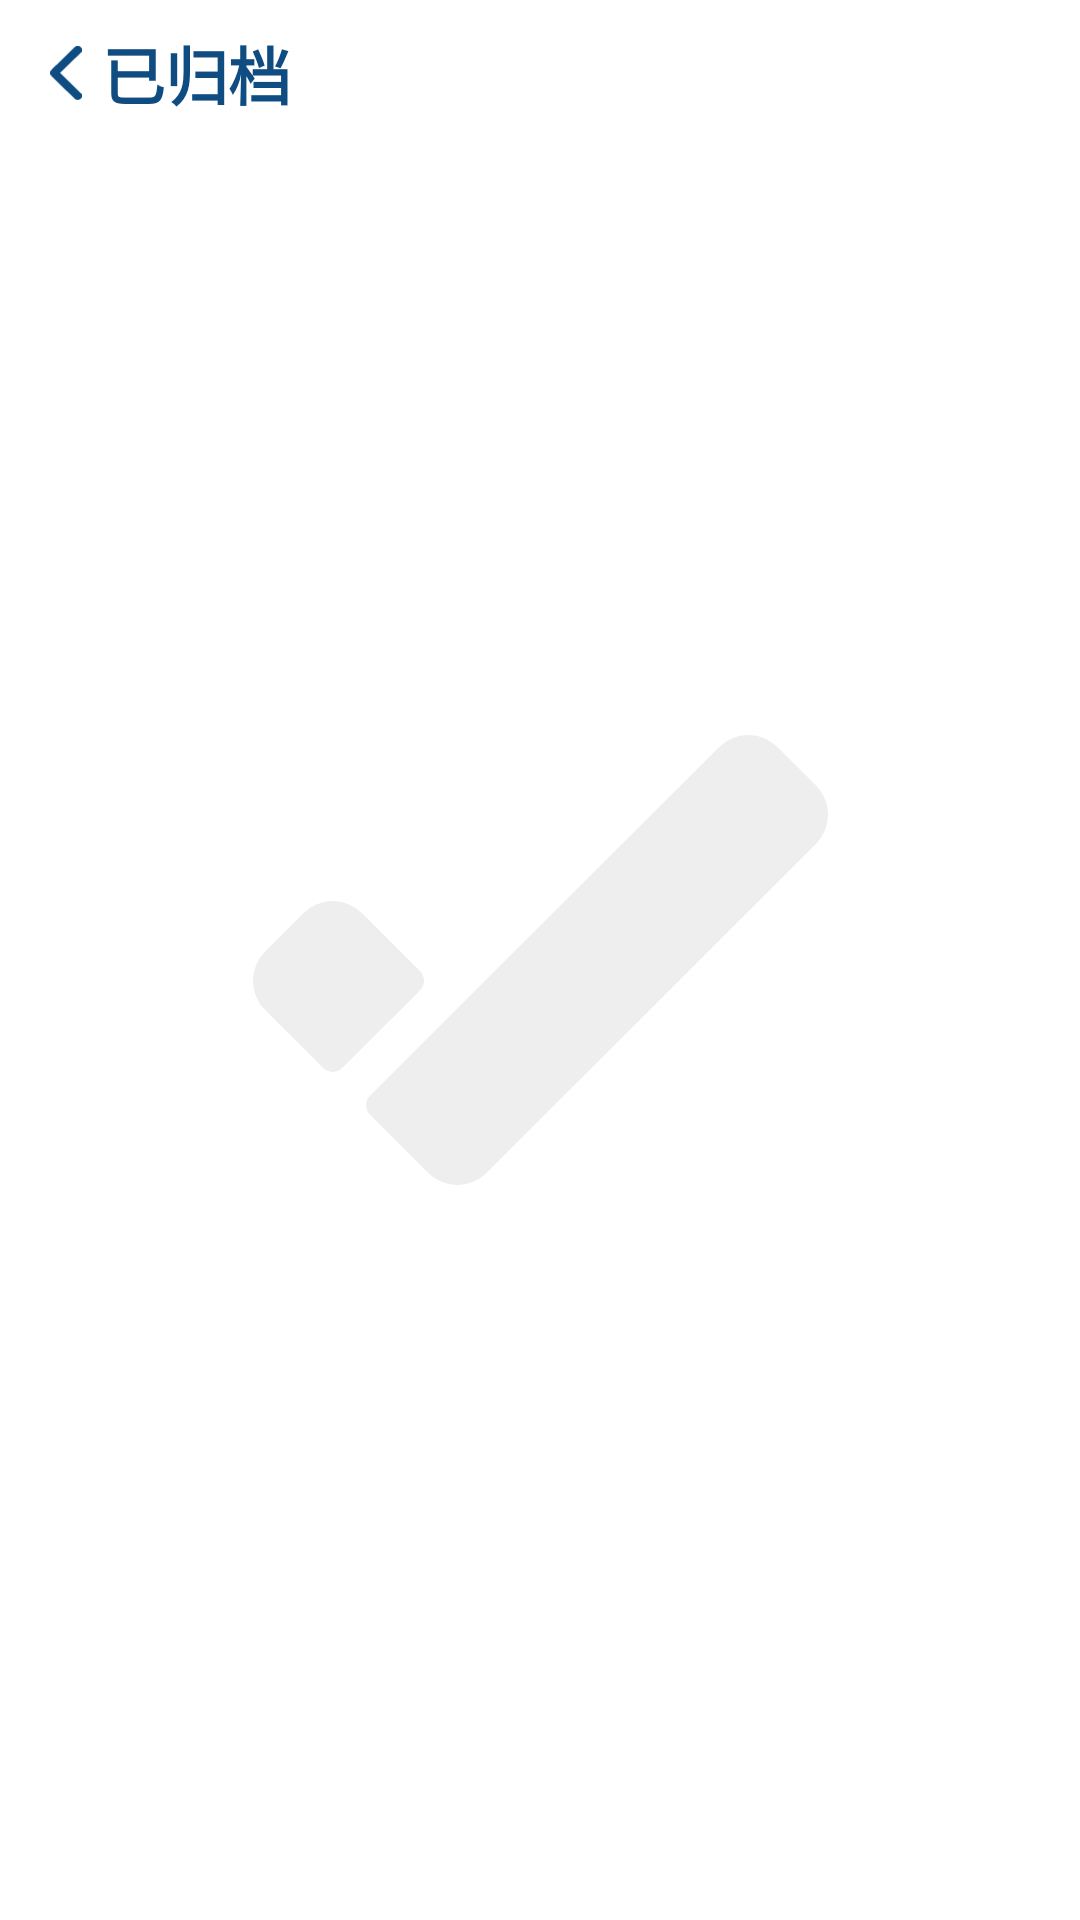

Icons on this 1080px x 1920px Android screen, each with the point to tap as (x,y):
back: (66,73)
